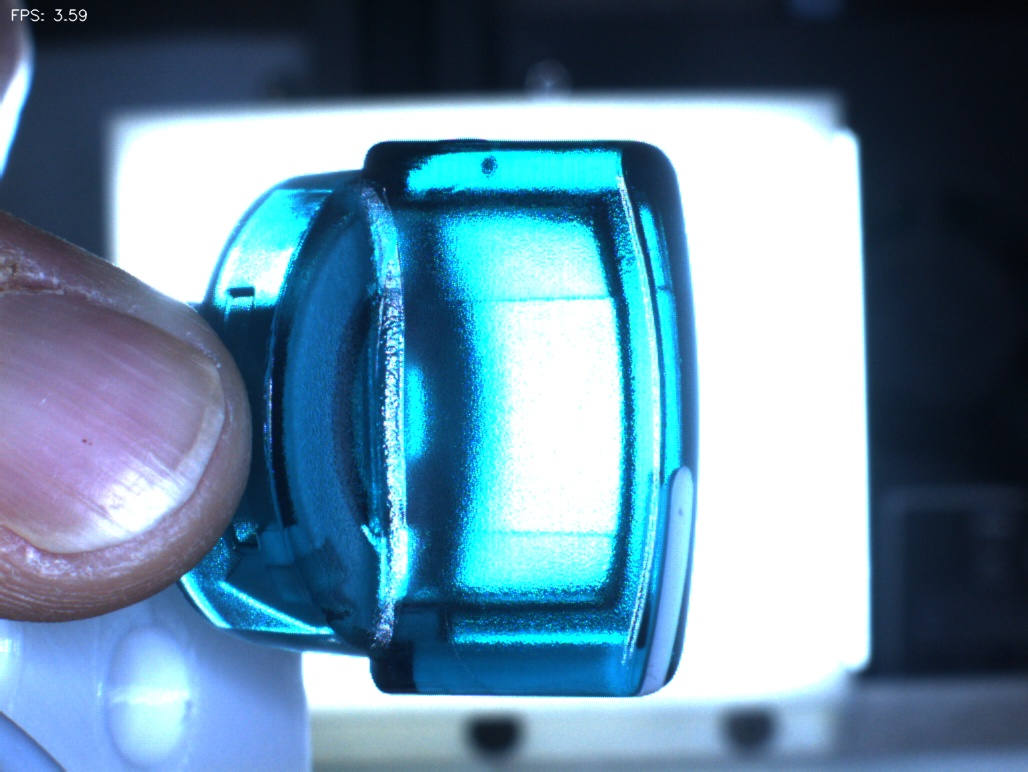Bulle: (448, 123, 541, 209)
